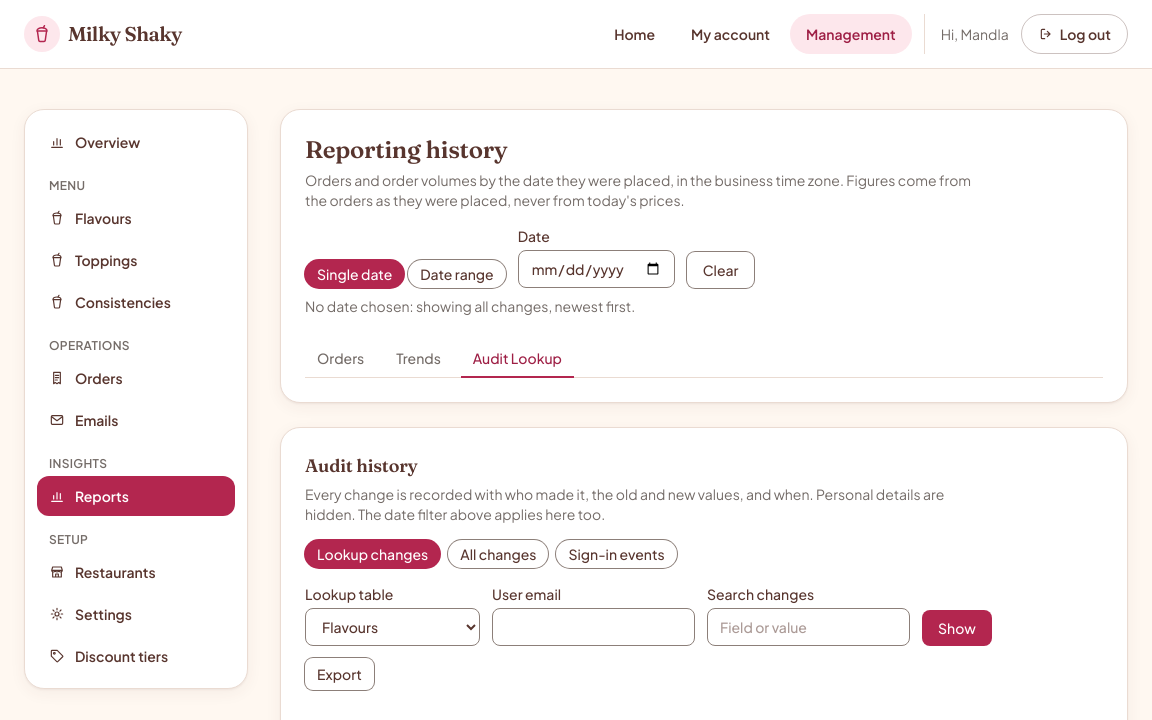
Test: Management → Reports → Audit Lookup › filters all changes by table, action, actor, user and text, and loads more
Click the button "All changes": (498, 554) [448,540,548,568]
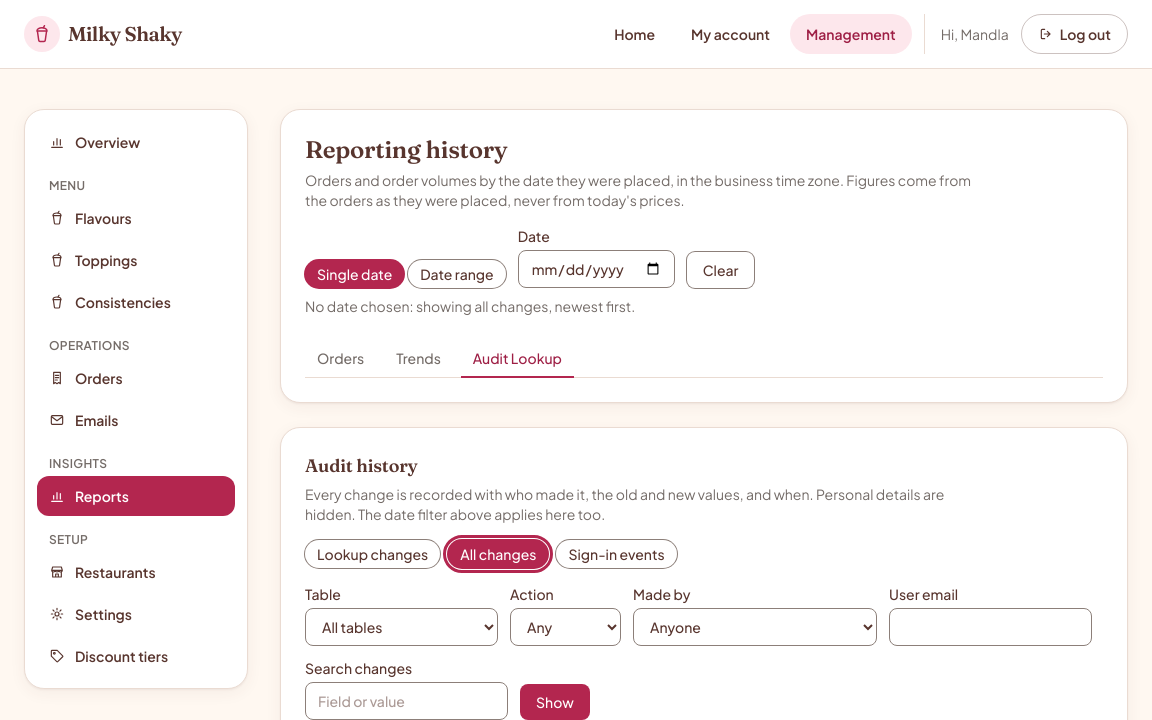
Select "Orders" in the dropdown labelled "Table": (402, 627) [305,608,498,646]
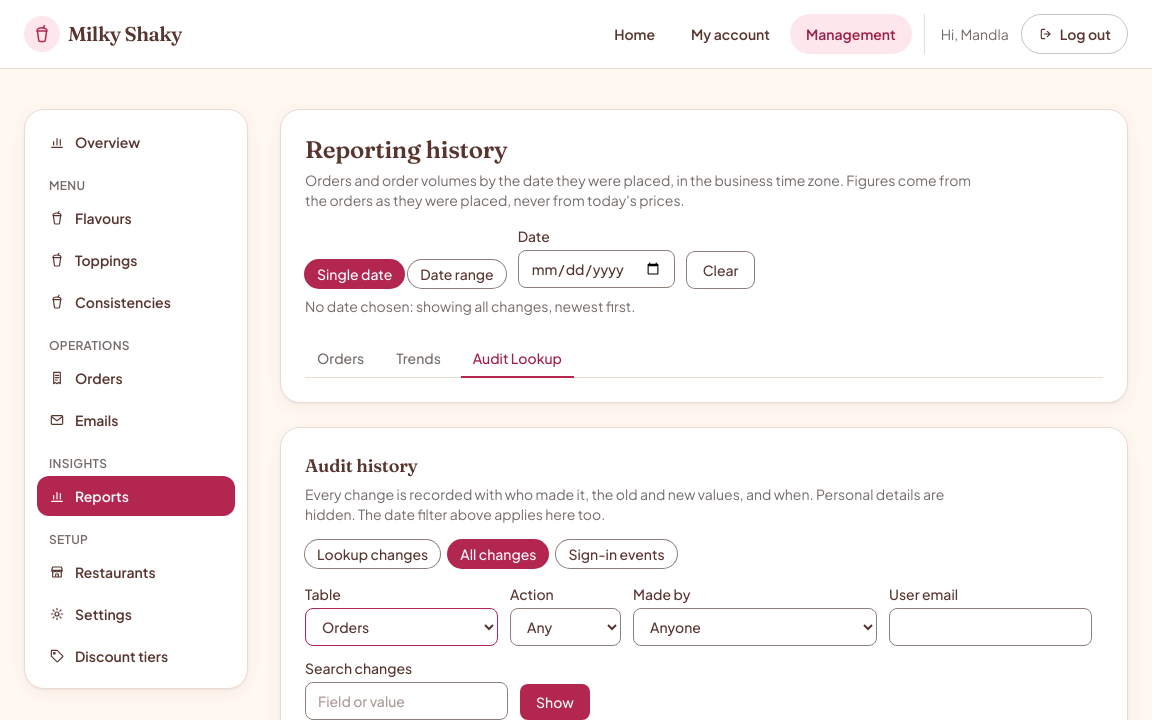
Select "Added" in the dropdown labelled "Action": (566, 627) [510,608,621,646]
Select "System: payment check" in the dropdown labelled "Made by": (755, 627) [633,608,877,646]
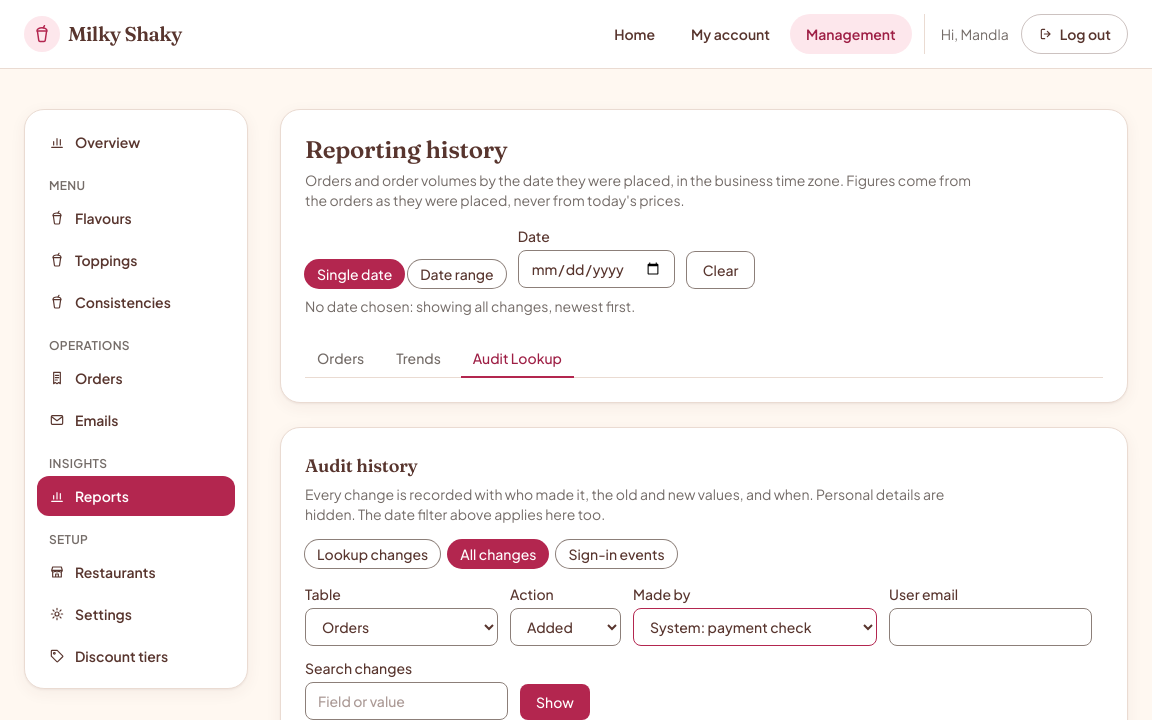
In the field labelled "User email": (990, 627) [889,608,1092,646], type "thandi@example.test"
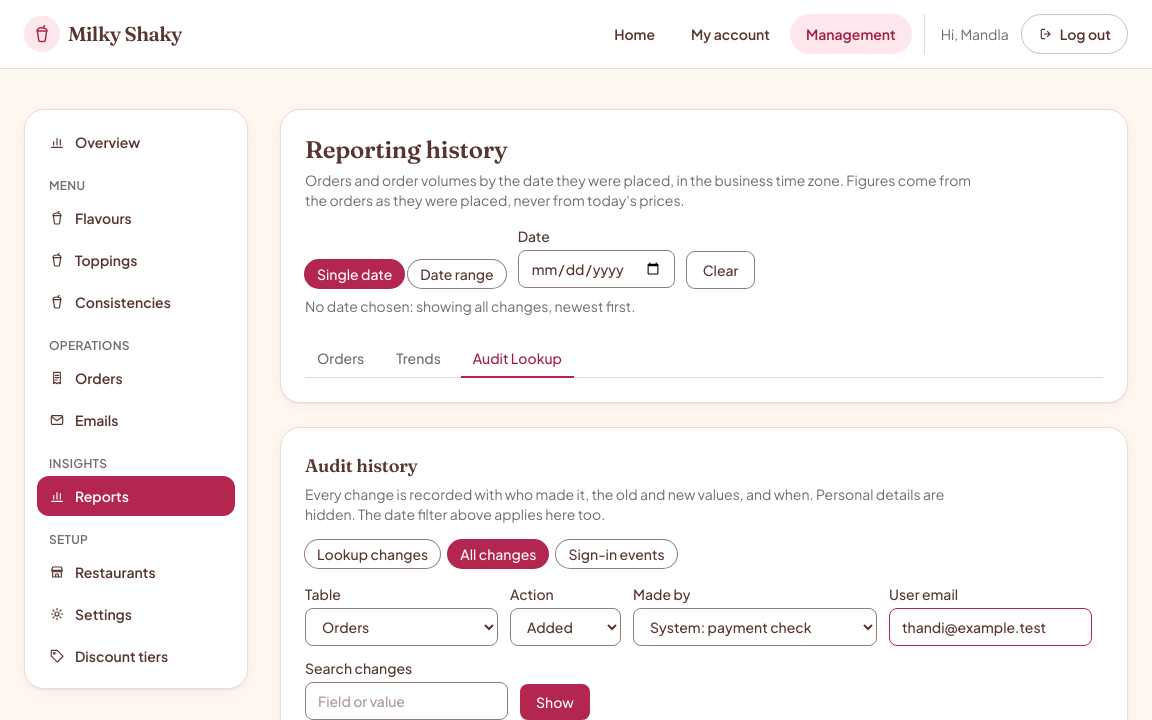
In the search field labelled "Search changes": (406, 701) [305,682,508,719], type "Cancelled"
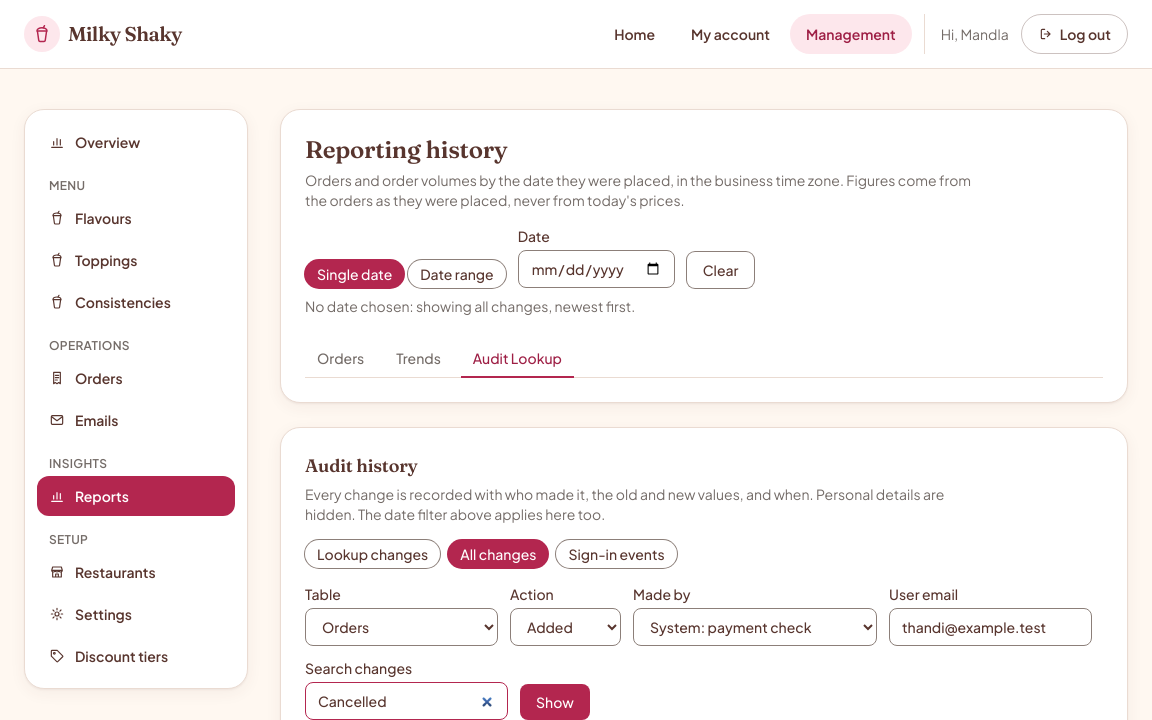
Click the button "Show": (555, 702) [520,684,590,719]
(page scrolled)
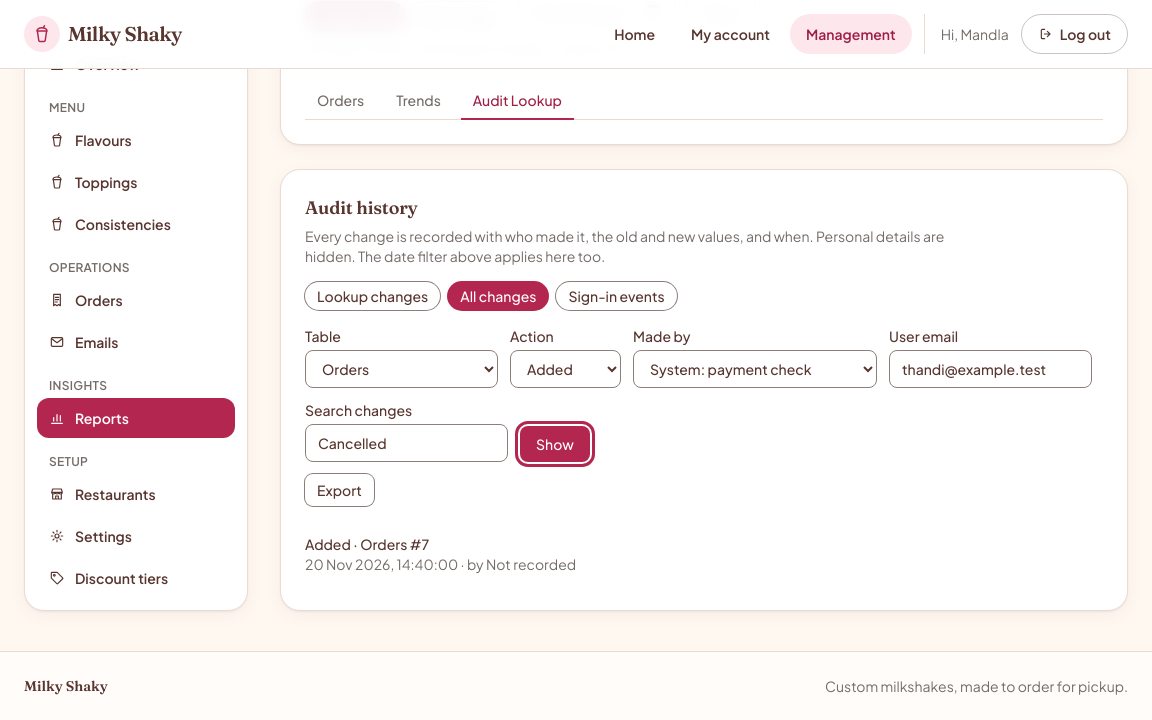
Check: the text "Added · Orders #7" is shown, box [305,535,429,553]
Check: the text "20 Nov 2026, 14:40:00 · by Not recorded" is shown, box [305,555,576,573]
